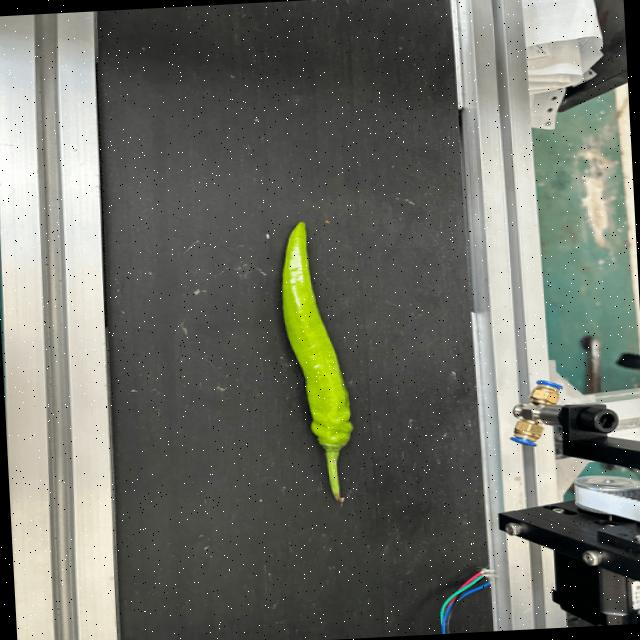chili: (279, 221, 354, 452)
